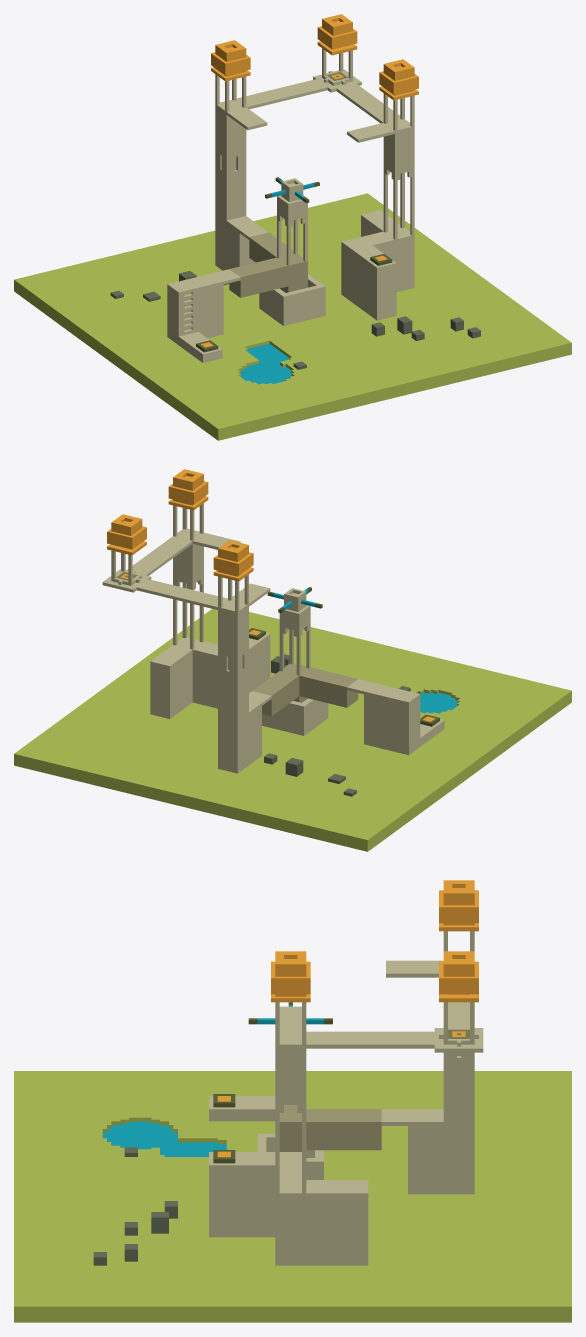
Rendered from monu9.obj.
The picture shows the model from 3 angles, top to bottom: view 1: azimuth 30°, elevation 25°; view 2: azimuth 150°, elevation 25°; view 3: azimuth 270°, elevation 25°; orthographic projection. The views are drawn at different scales.
Bounding box in the file's own units: 12.6 × 7.9 × 12.6.
1 material, 1 textured.
